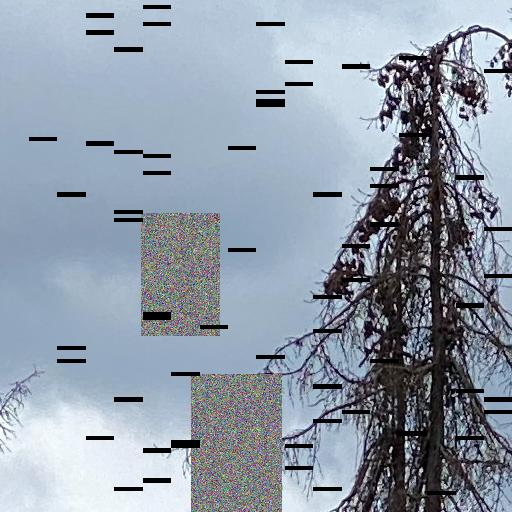tree: (257, 24, 512, 512)
